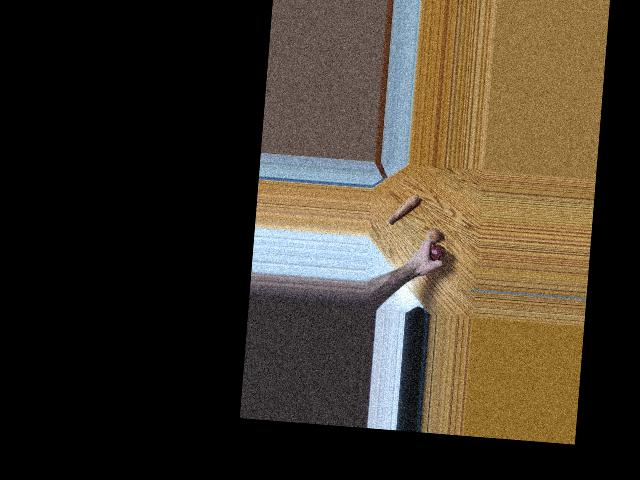onion: (421, 227, 440, 246)
